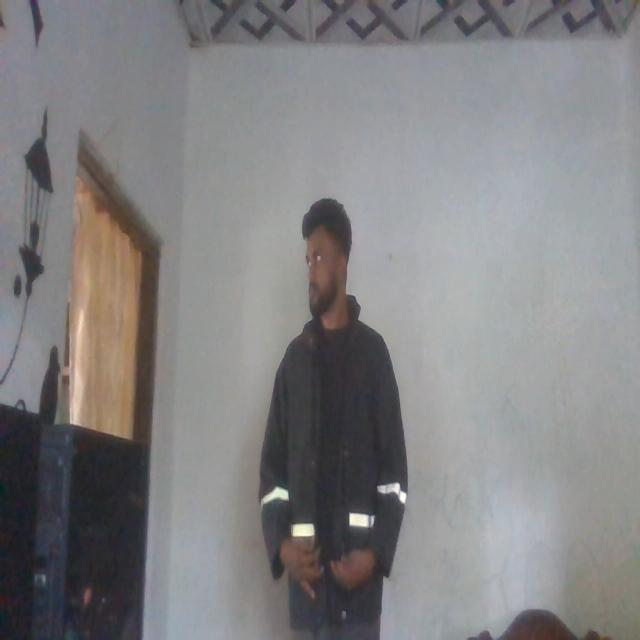Jacket_Wearer: (250, 319, 416, 594)
Person: (268, 186, 403, 640)
